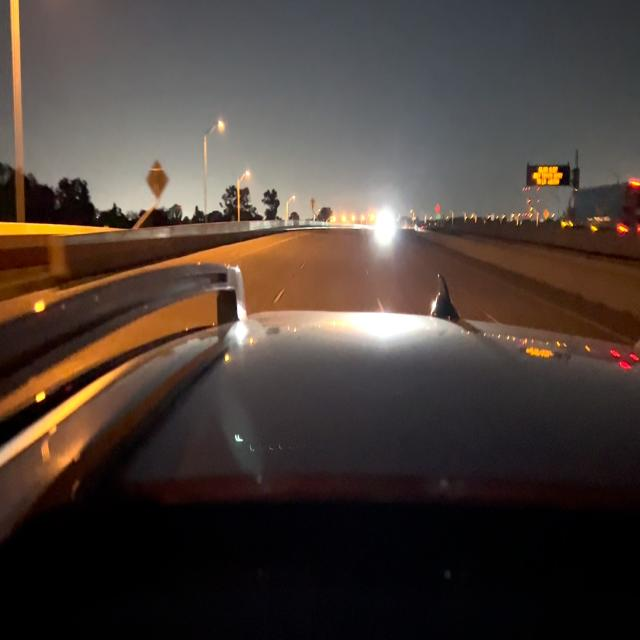back-of-sign: (147, 157, 169, 198)
